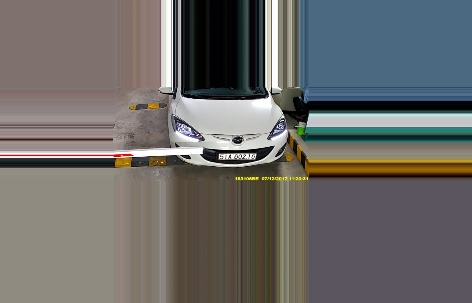plate: (218, 152, 256, 161)
